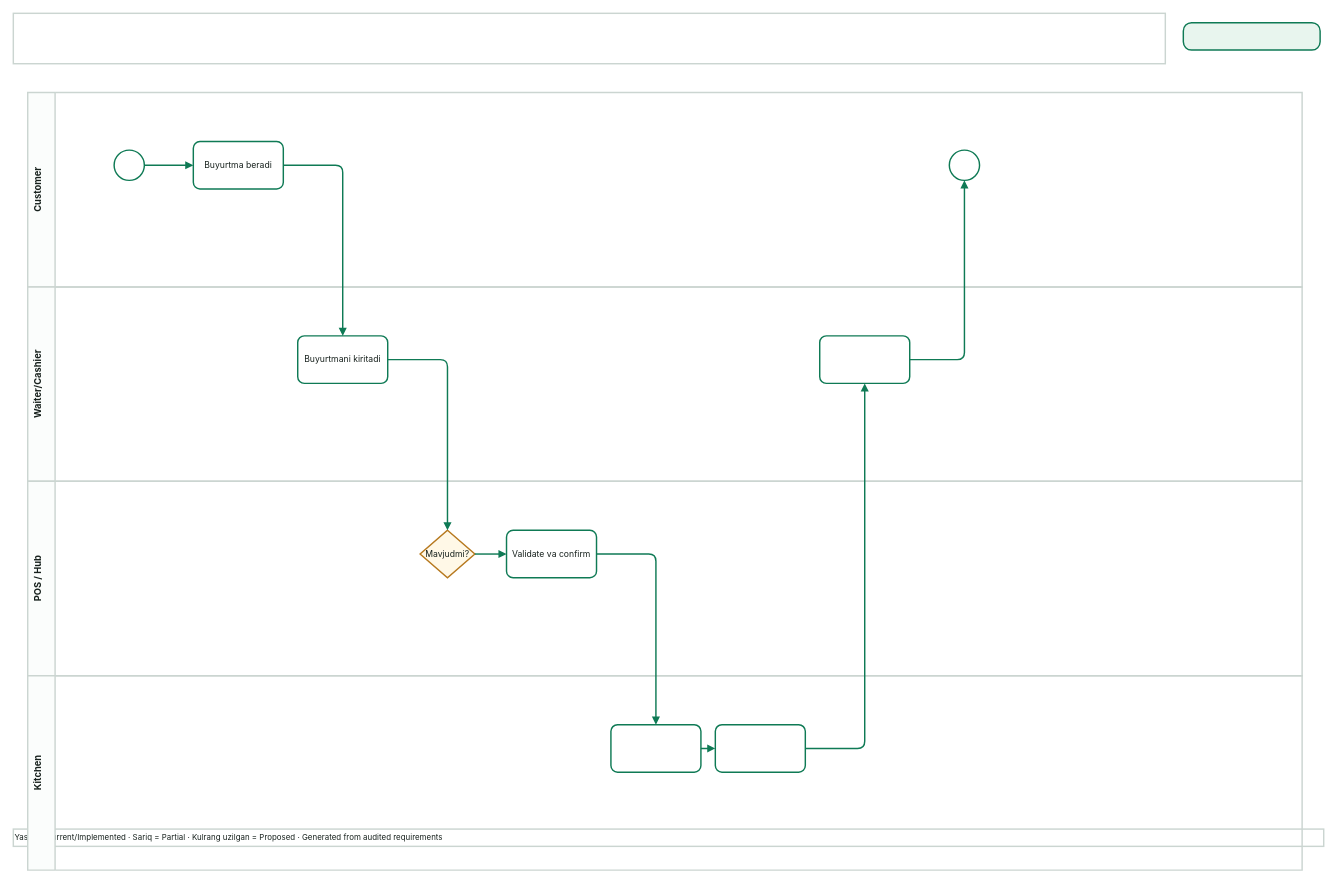
The diagram is 1336 pixels wide and 883 high, and some of its shapes have lost their labels. The shapes that lost their labels are listed below. From the top down, each one's box as (x1, y1, x2, y2) in pixels, then its label:
(12, 12, 1166, 64): D25 · Order Lifecycle BPMN 2.0 · osonCafe SDLC
(1182, 22, 1320, 50): Current
(819, 335, 910, 384): Topshirish
(610, 724, 701, 773): Tayyorlash
(714, 724, 806, 773): Ready
